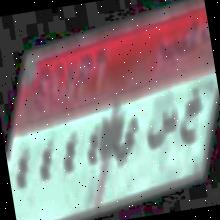4: (8, 145, 36, 196), (56, 127, 82, 180), (34, 138, 61, 188), (82, 118, 104, 168)
khaa: (174, 83, 210, 150)
seen: (142, 102, 182, 154)
yaa: (107, 118, 144, 166)
